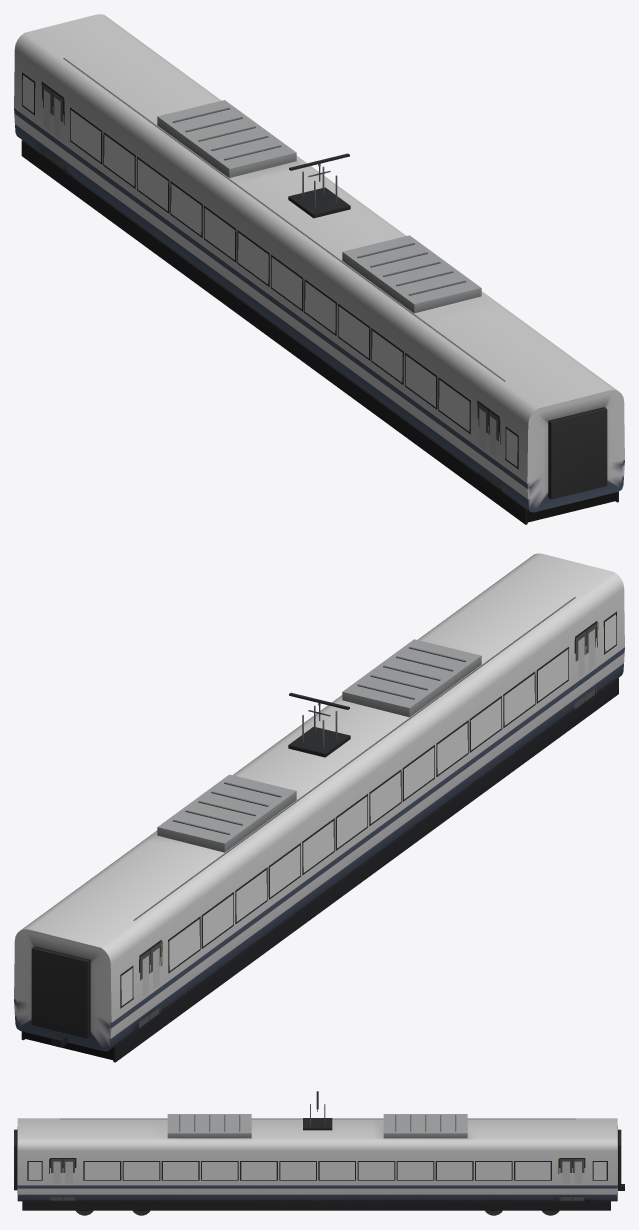
Rendered from express_mitte.glb.
3 renders of one model, top to bottom at view 1: azimuth 30°, elevation 25°; view 2: azimuth 150°, elevation 25°; view 3: azimuth 270°, elevation 25°, orthographic. The views are drawn at different scales.
Parts seen in each view (by area): view 1: lack, glas; view 2: lack, glas; view 3: lack, glas.
Boxes of the visible parts, x1=… form: lack: x1=14, y1=14, x2=624, y2=524; glas: x1=22, y1=75, x2=517, y2=466; lack: x1=14, y1=553, x2=624, y2=1062; glas: x1=121, y1=614, x2=616, y2=1005; lack: x1=14, y1=1091, x2=624, y2=1215; glas: x1=28, y1=1161, x2=606, y2=1183.
Bounding box in the file's own units: 2.94 × 5.25 × 26.88.
